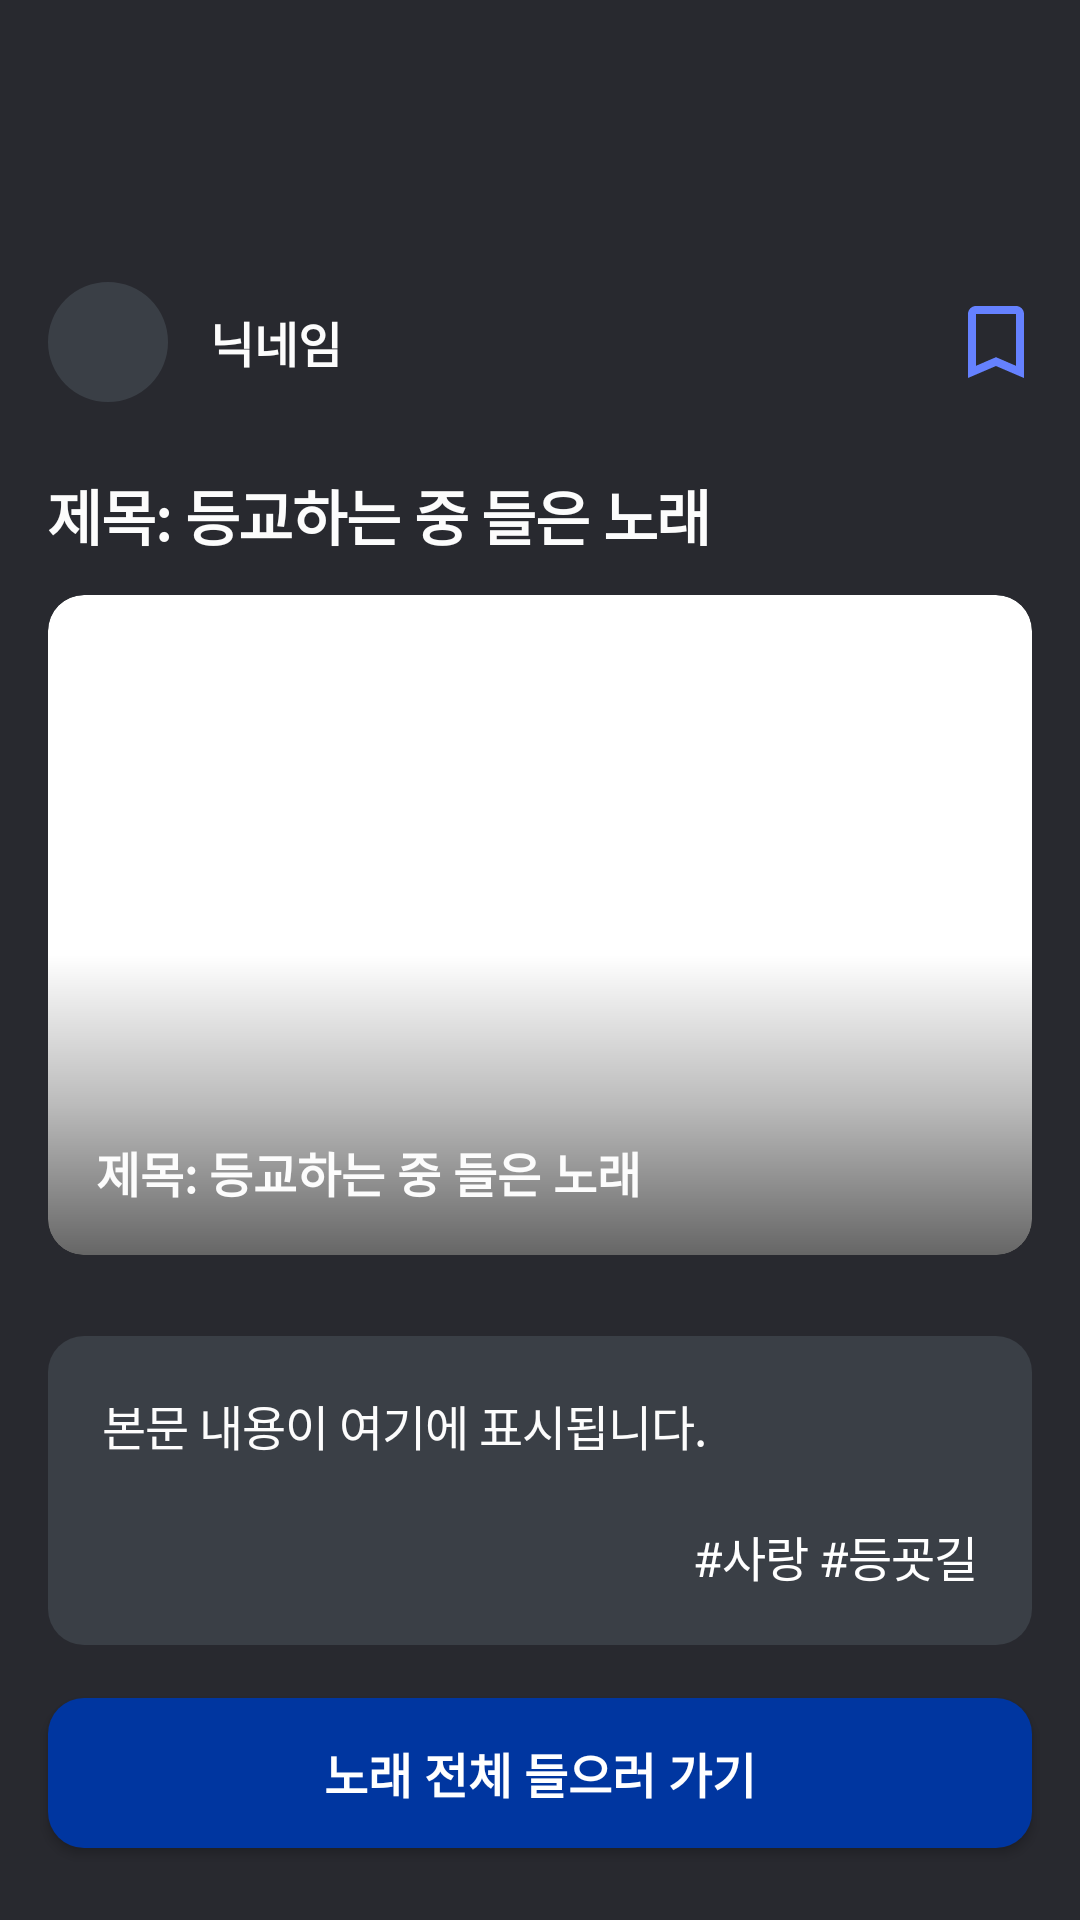

Icon click points for this 1080x1920 phone screenshot, format (x,y):
bookmark: (996,342)
